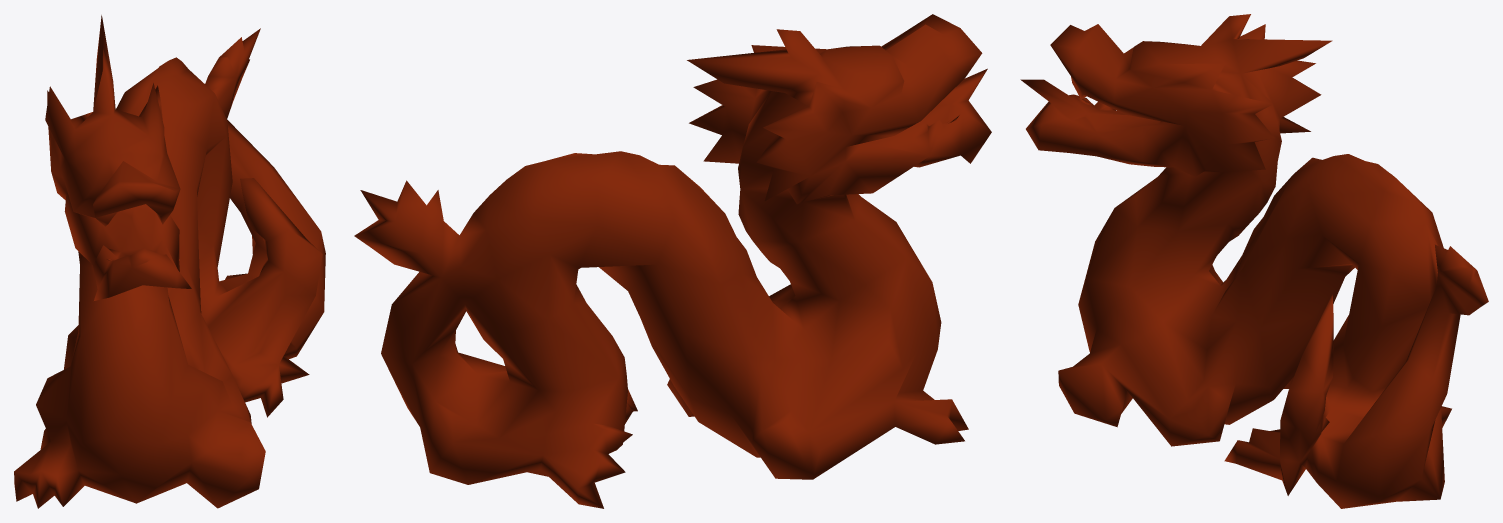
Rendered from 1k_dragon.obj.
The picture shows the model from 3 angles, left to right: view 1: azimuth 30°, elevation 25°; view 2: azimuth 150°, elevation 25°; view 3: azimuth 270°, elevation 25°; orthographic projection. The views are drawn at different scales.
Visible parts, largest first — view 1: dragon; view 2: dragon; view 3: dragon.
Boxes of the visible parts, bbox=[...] form: dragon: bbox=[14, 15, 325, 508]; dragon: bbox=[354, 14, 991, 508]; dragon: bbox=[1020, 14, 1488, 508].
Size of the model in its own units: 1.09 by 0.9968 by 1.1.
